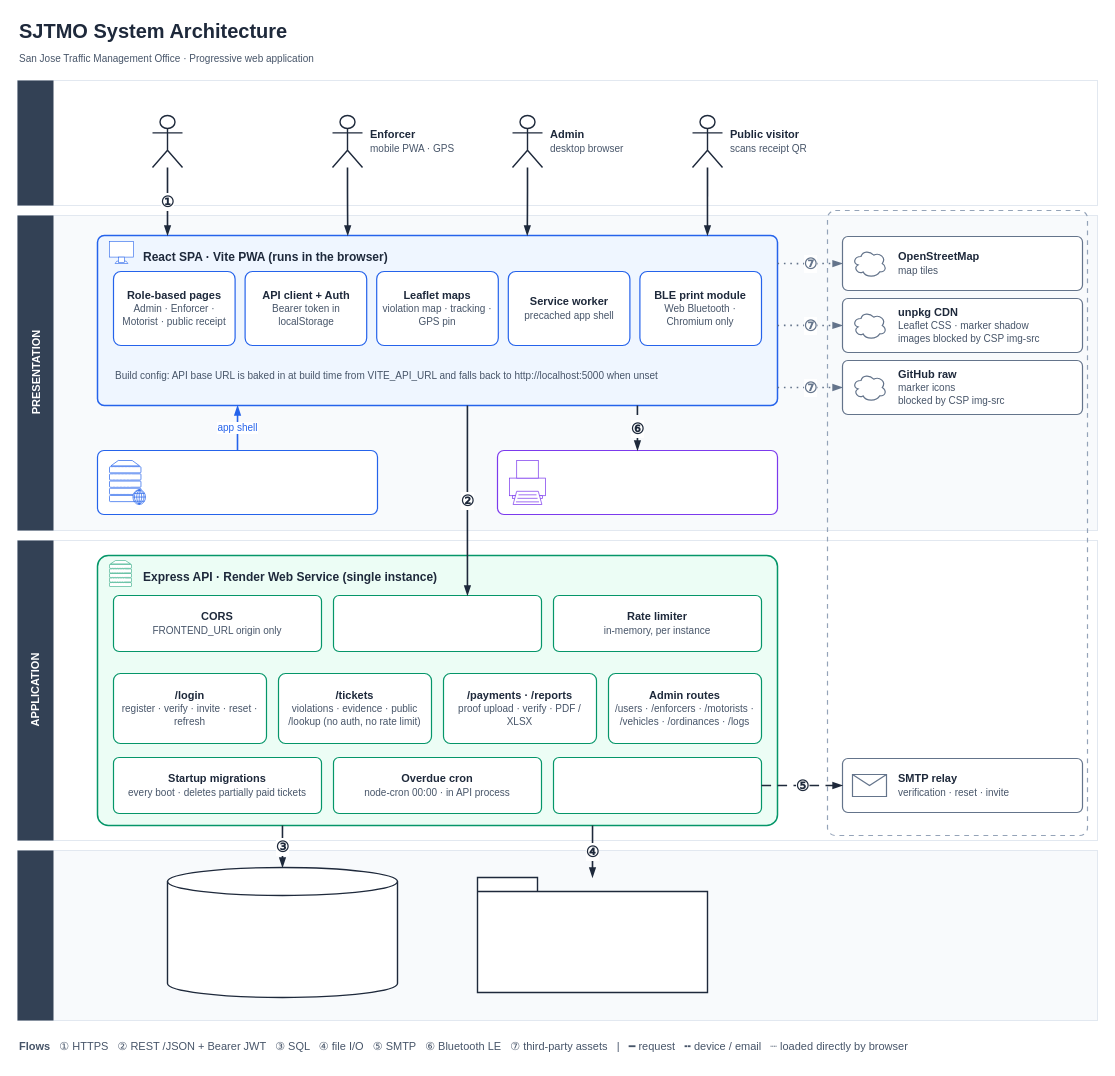
This 1115x1076 diagram has some shape labels left out. Here are the shapes that lost their labels. From the top down, the box of each, then its label:
(17, 80, 53, 205): USERS
(151, 114, 183, 168): Motorist browser / installed PWA
(96, 449, 378, 515): Render Static Site HTTPS · SPA fallback CSP header hardcodes the API host
(496, 449, 778, 515): PT-210 thermal printer Bluetooth LE · prints ticket + receipt QR
(826, 209, 1088, 836): THIRD-PARTY SERVICES
(332, 594, 542, 652): JWT auth requireAuth · authorize (role)
(552, 756, 762, 814): Mailer nodemailer · logs emails when SMTP unset
(17, 850, 53, 1020): DATA
(166, 866, 398, 998): PostgreSQL 14+ pg Pool · SSL when remote
(476, 876, 708, 993): /uploads (local disk) evidence · receipts · ordinance PDFs no redundancy
